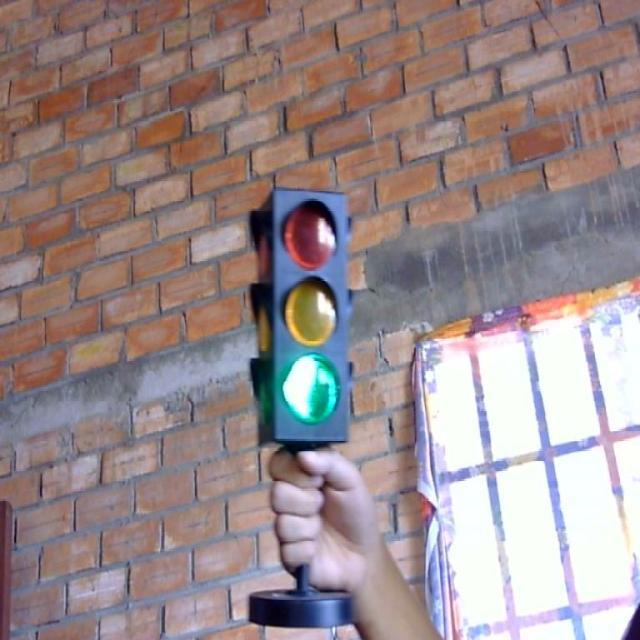green light: (278, 343, 344, 430)
